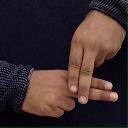hand: (66, 9, 126, 104), (21, 69, 118, 118)
